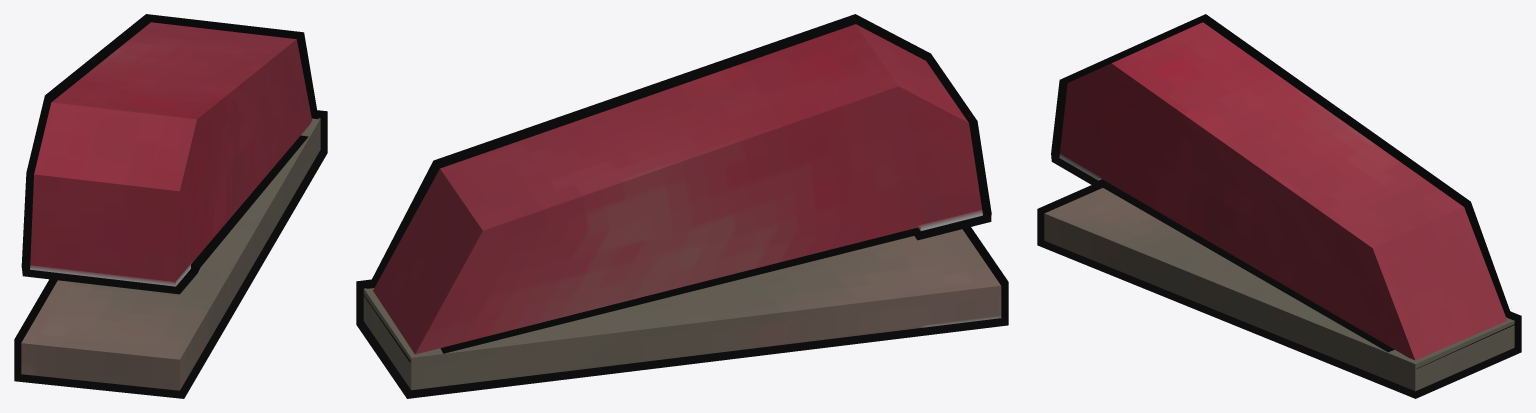
The model's file is Granpeador Cenario.glb.
3 renders of one model, left to right at view 1: azimuth 30°, elevation 25°; view 2: azimuth 150°, elevation 25°; view 3: azimuth 270°, elevation 25°, orthographic. The views are drawn at different scales.
Parts seen in each view (by area): view 1: Grampeador_001; view 2: Grampeador_001; view 3: Grampeador_001.
Part boxes in pixels (x1=…): Grampeador_001: x1=14, y1=14, x2=327, y2=398; Grampeador_001: x1=356, y1=14, x2=1008, y2=398; Grampeador_001: x1=1037, y1=14, x2=1521, y2=398.
Size of the model in its own units: 0.1348 by 0.0668 by 0.1378.
2 materials, 1 textured.
